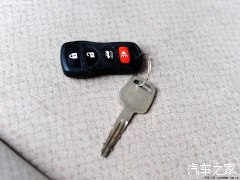key: (98, 73, 159, 160)
